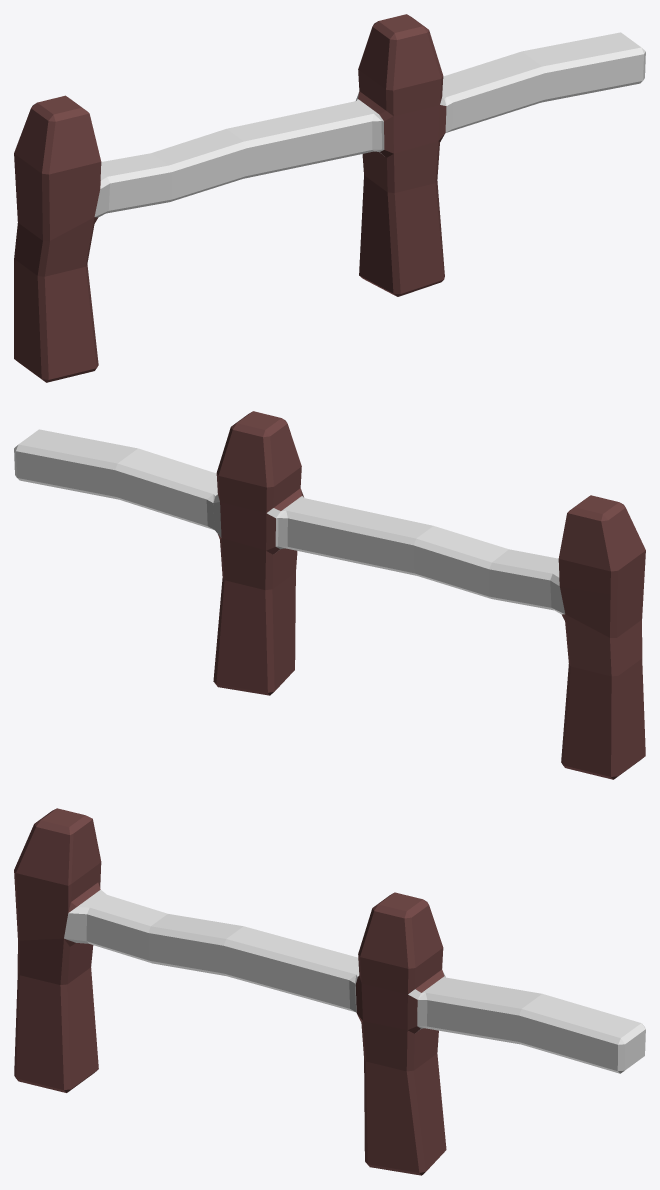
The model's file is fence.fbx.
3 views of the same model, one above another, from view 1: azimuth 30°, elevation 25°; view 2: azimuth 150°, elevation 25°; view 3: azimuth 330°, elevation 25° (orthographic).
Visible parts, largest first — view 1: Cube.003; view 2: Cube.003; view 3: Cube.003.
Boxes of the visible parts, x1,y1,x2,y2 form: Cube.003: (14, 14, 645, 382); Cube.003: (14, 411, 645, 779); Cube.003: (14, 808, 645, 1175).
Bounding box in the file's own units: 2120 × 864 × 222.
